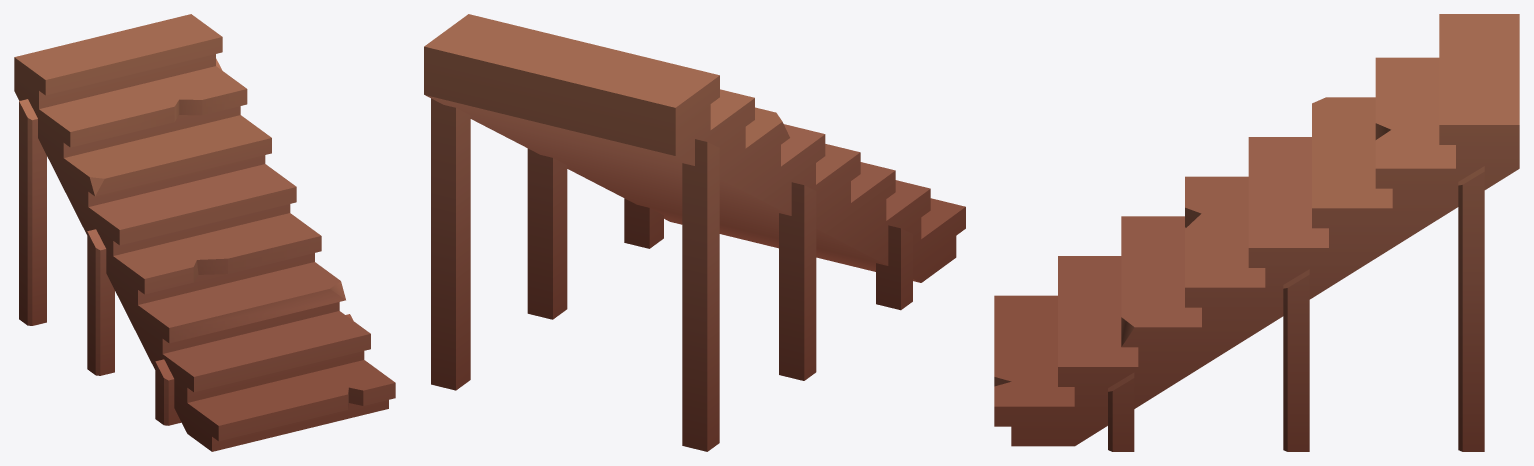
The model's file is stairs_wood.gltf.
3 views of the same model, side by side, from view 1: azimuth 30°, elevation 25°; view 2: azimuth 150°, elevation 25°; view 3: azimuth 270°, elevation 25° (orthographic). The views are drawn at different scales.
Parts seen in each view (by area): view 1: stairs_wood; view 2: stairs_wood; view 3: stairs_wood.
Boxes of the visible parts, bbox=[...] form: stairs_wood: bbox=[14, 14, 395, 451]; stairs_wood: bbox=[424, 14, 965, 451]; stairs_wood: bbox=[994, 14, 1519, 451].
Size of the model in its own units: 3.3 by 4.05 by 6.
Materials: 1 (1 with a texture image).
